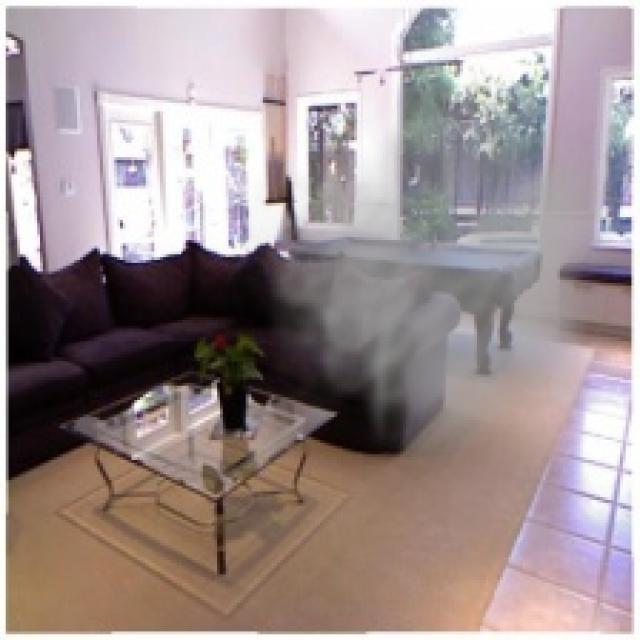Smoke: (228, 72, 612, 474)
